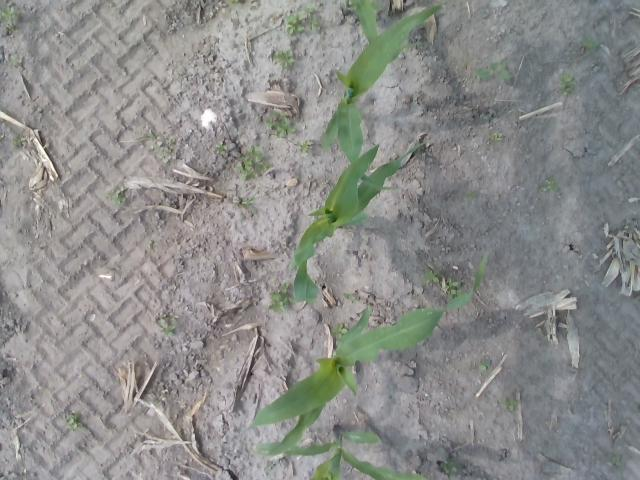Maize: (238, 252, 490, 459), (290, 143, 426, 312), (317, 6, 439, 191), (254, 426, 428, 480), (352, 0, 380, 42)
Weeds: (242, 147, 264, 178), (478, 63, 508, 80), (152, 142, 169, 162), (268, 294, 288, 311), (538, 177, 560, 191), (276, 119, 294, 136), (276, 50, 294, 67), (302, 9, 318, 28), (158, 318, 174, 336), (559, 73, 575, 90), (288, 18, 304, 35), (583, 36, 599, 52), (65, 410, 79, 428), (441, 460, 457, 475), (424, 269, 439, 284), (444, 278, 458, 294), (0, 7, 16, 21), (502, 396, 516, 410), (215, 140, 228, 154), (111, 192, 125, 204), (332, 324, 344, 338), (479, 360, 492, 370), (302, 141, 314, 150), (138, 133, 153, 140), (278, 284, 290, 292), (464, 192, 476, 200), (491, 133, 502, 141), (12, 138, 22, 146)
